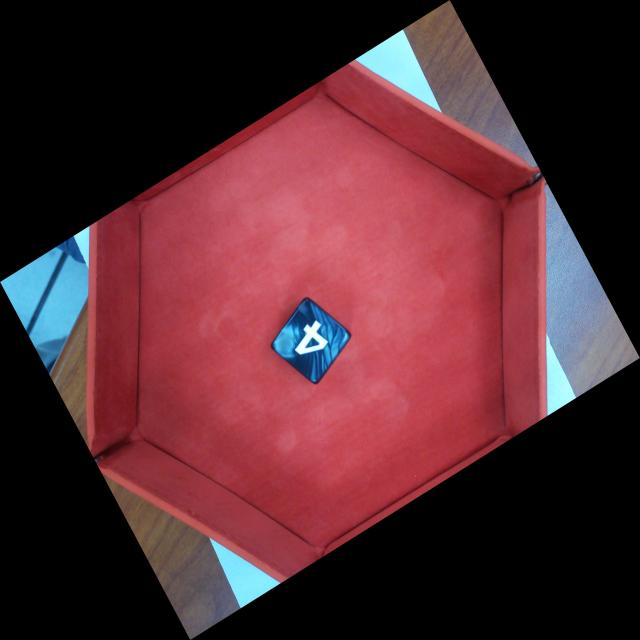dice: (274, 297, 352, 385)
